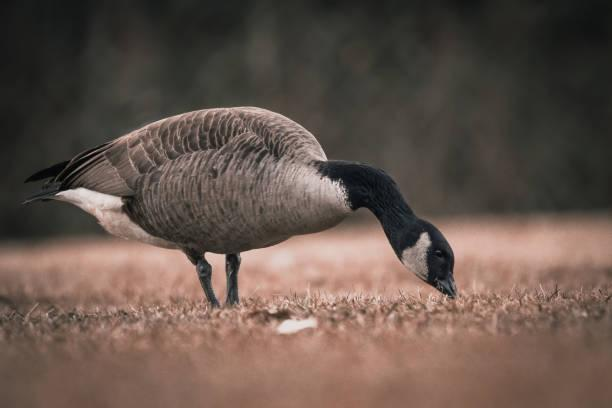Canadian-Goose: (22, 103, 461, 314)
